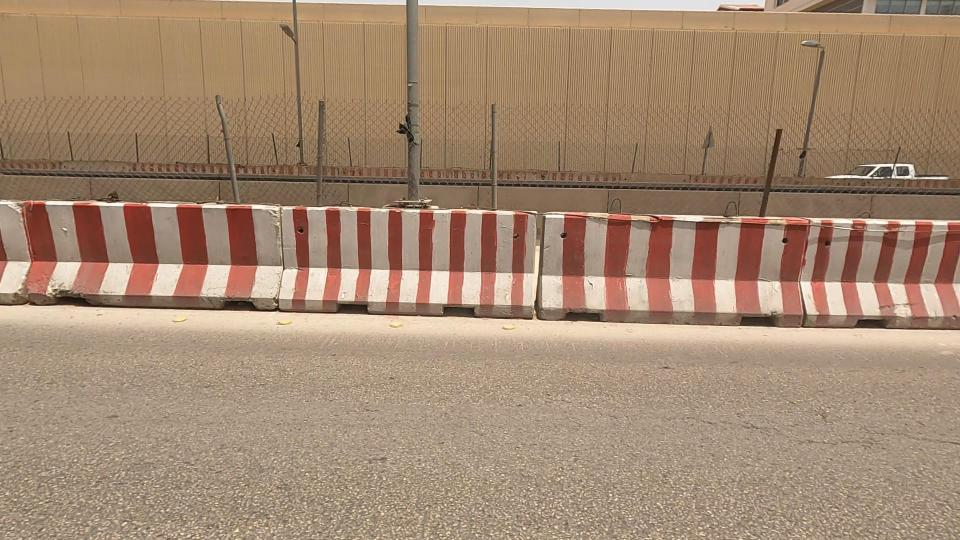CONSTRUCTION_ROAD: (384, 91, 960, 368), (0, 112, 624, 336)
